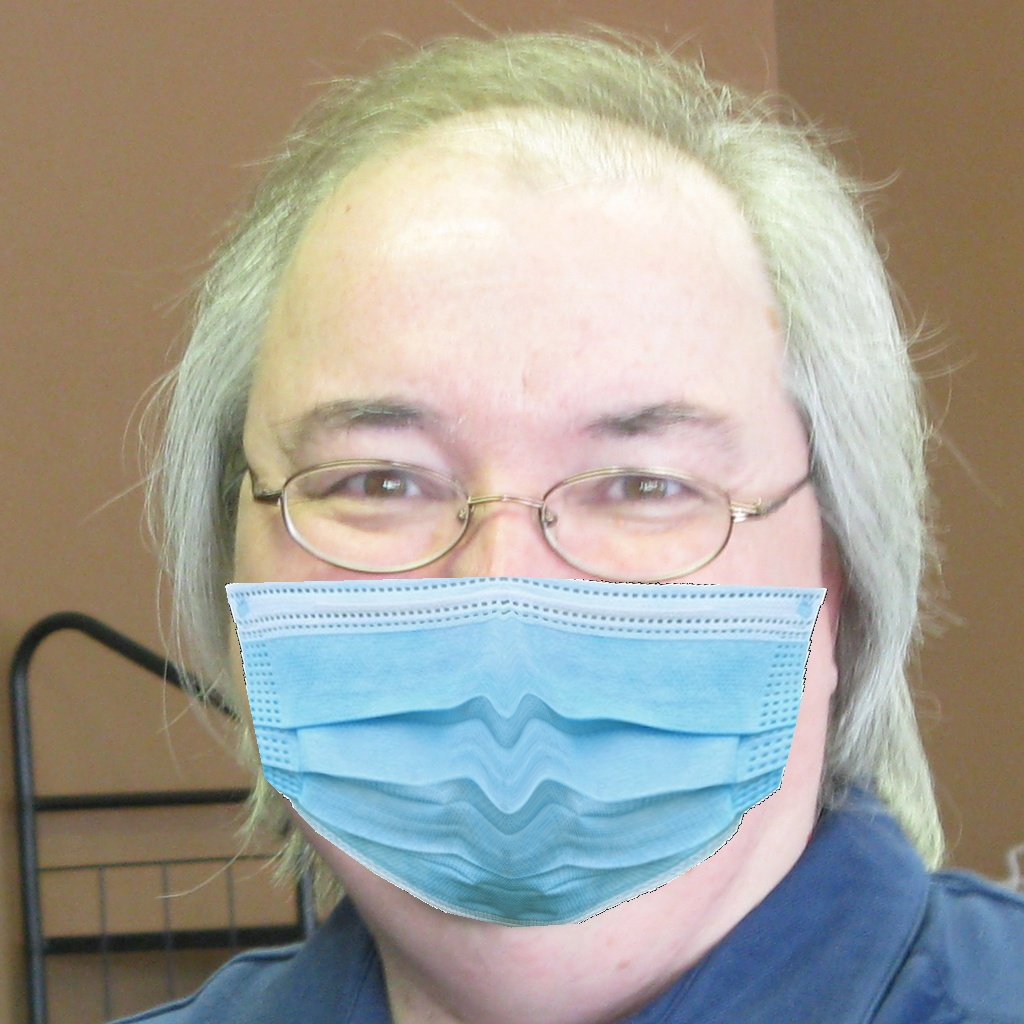Mask: (222, 360, 842, 931)
